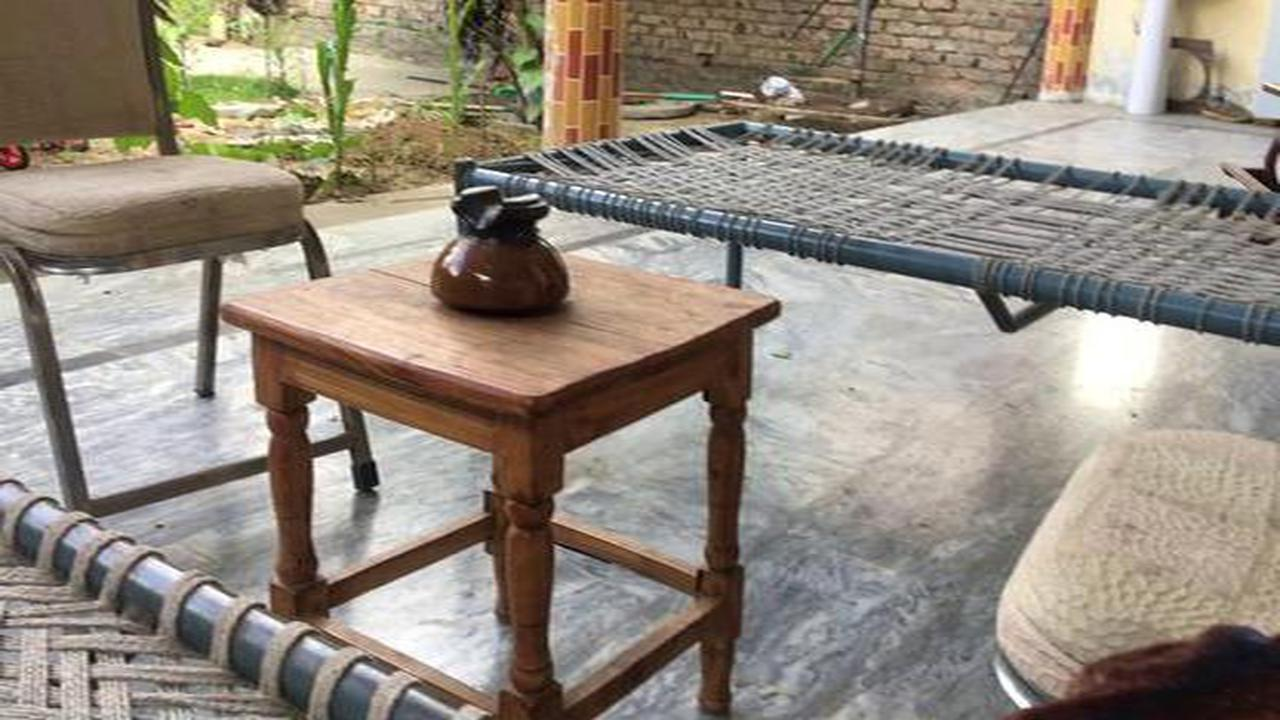insulator_pin: (404, 168, 588, 326)
